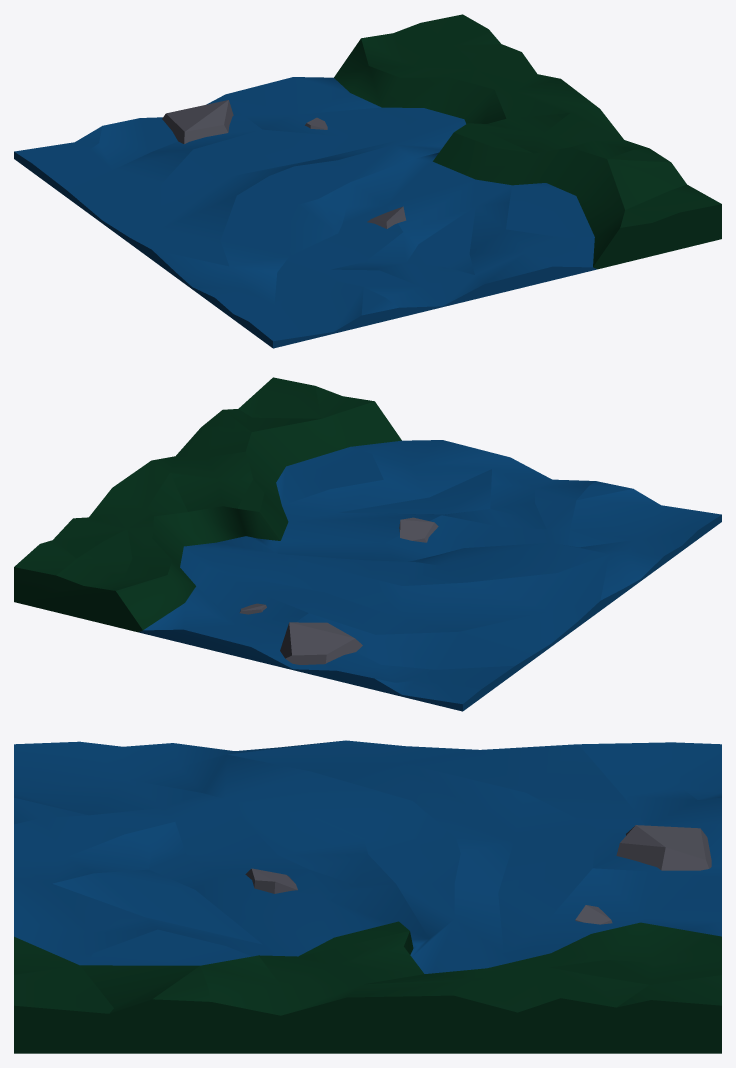
File: Water_Edge_R.fbx
3 renders of one model, top to bottom at view 1: azimuth 30°, elevation 25°; view 2: azimuth 150°, elevation 25°; view 3: azimuth 270°, elevation 25°, orthographic. The views are drawn at different scales.
Parts seen in each view (by area): view 1: Water_Edge_R; view 2: Water_Edge_R; view 3: Water_Edge_R.
Part boxes in pixels (x1,y1,x2,y2): Water_Edge_R: (14, 14, 721, 348); Water_Edge_R: (14, 377, 721, 711); Water_Edge_R: (14, 740, 721, 1053).
Size of the model in its own units: 147 by 13.25 by 147.
